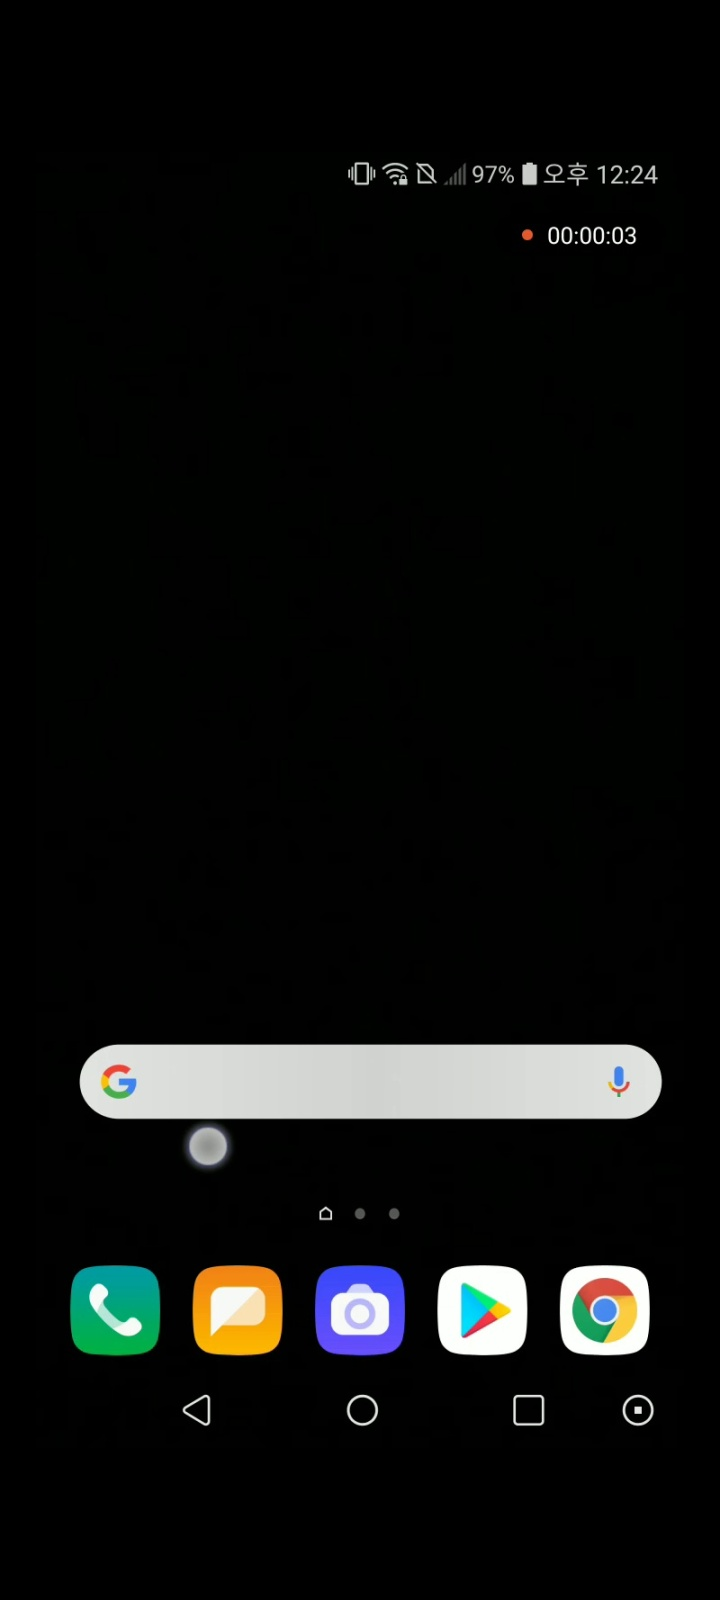Cursor: (187, 1124, 232, 1170)
